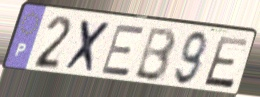2: (31, 14, 73, 71)
9: (173, 29, 211, 88)
B: (131, 26, 178, 84)
E: (201, 35, 251, 91), (99, 24, 146, 78)
X: (62, 18, 114, 76)
